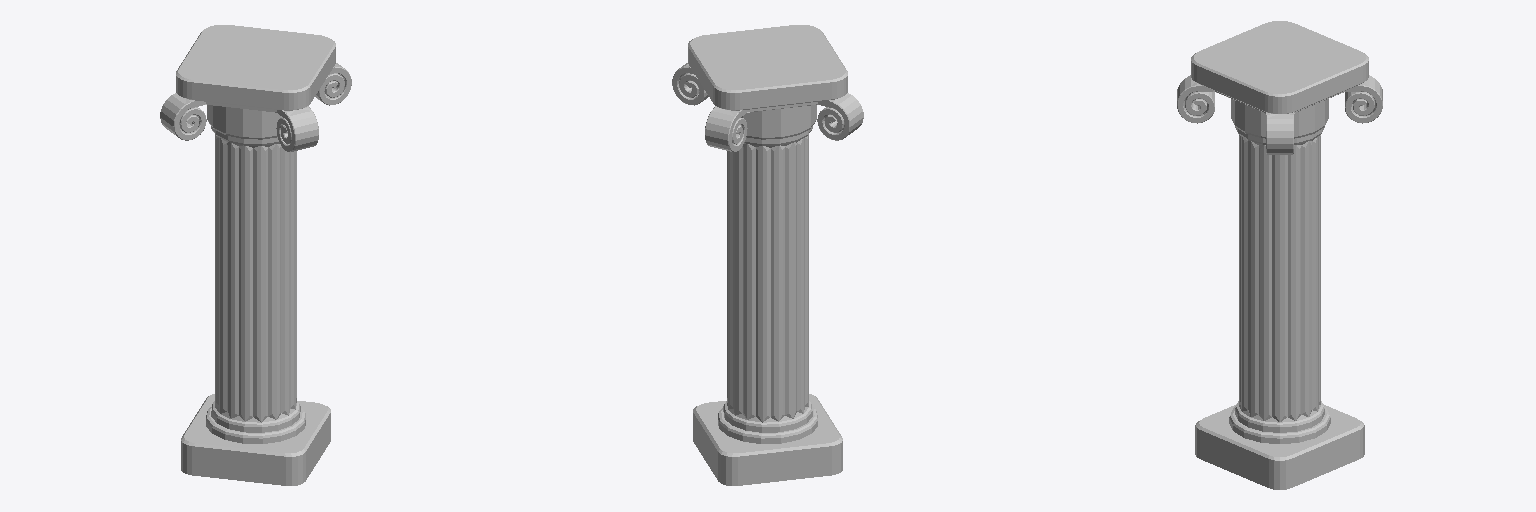
Rendered from pillar.obj.
3 renders of one model, left to right at view 1: azimuth 30°, elevation 25°; view 2: azimuth 150°, elevation 25°; view 3: azimuth 270°, elevation 25°, orthographic.
Visible parts, largest first — view 1: Cylinder; view 2: Cylinder; view 3: Cylinder.
Boxes of the visible parts, <box> form: Cylinder: <box>160,25,351,485</box>; Cylinder: <box>672,25,863,485</box>; Cylinder: <box>1177,21,1382,489</box>.
Size of the model in its own units: 4.99 by 10.6 by 4.99.